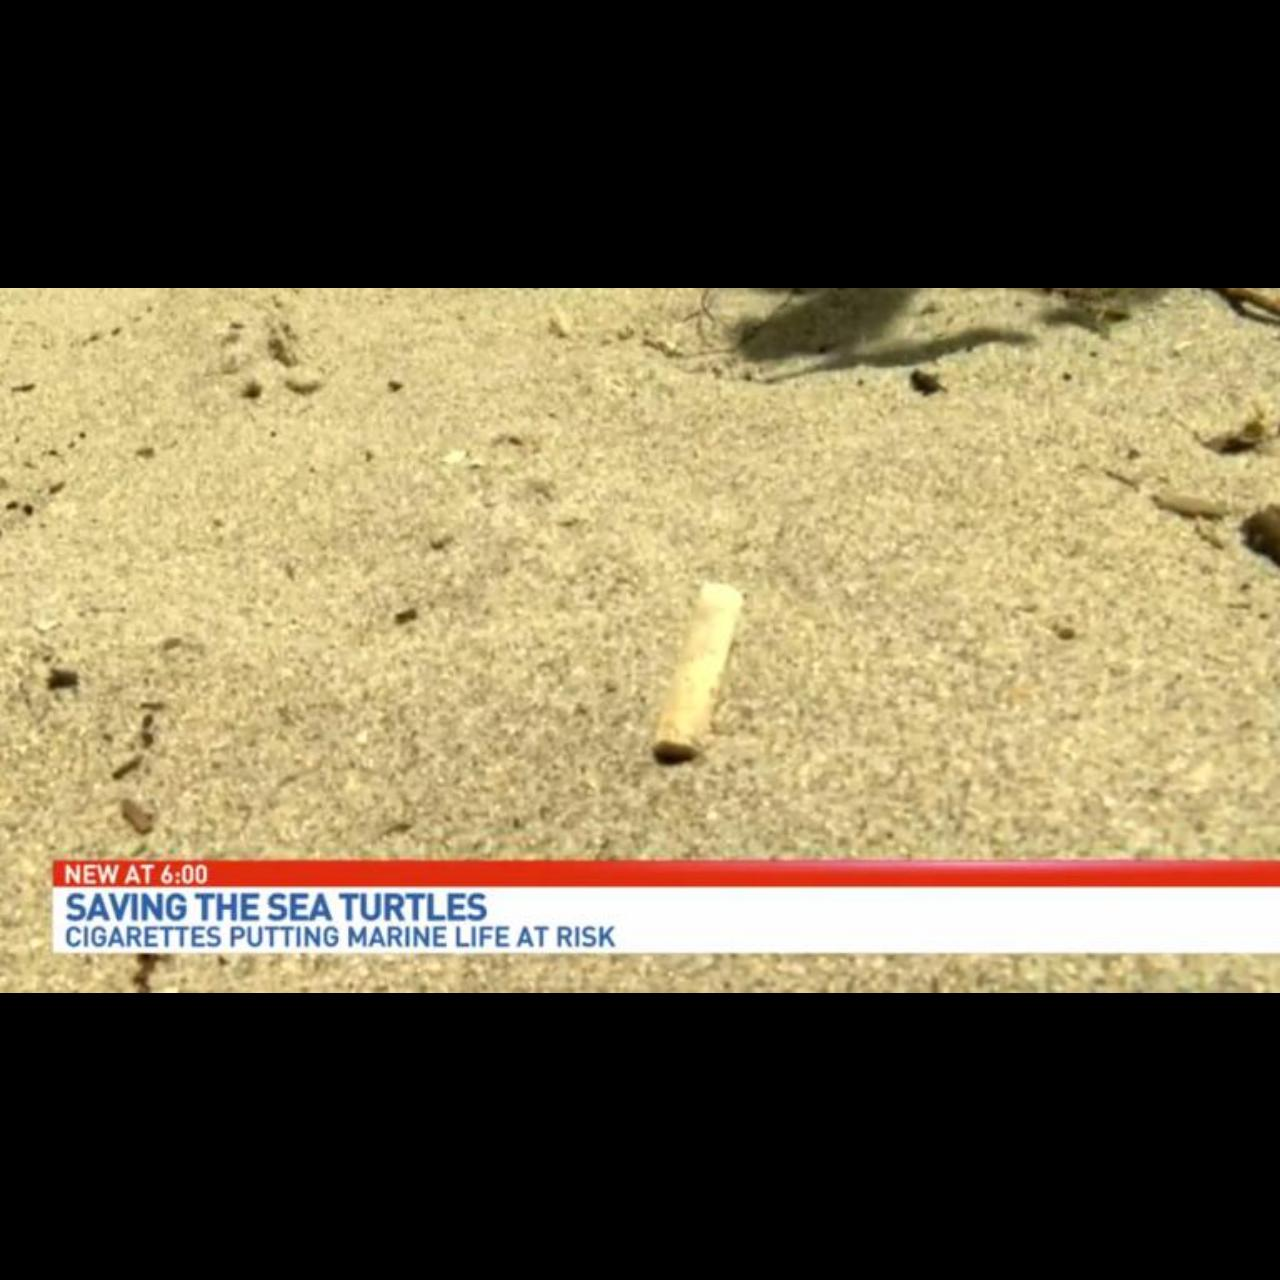cigarettes_butts: (652, 585, 745, 767)
